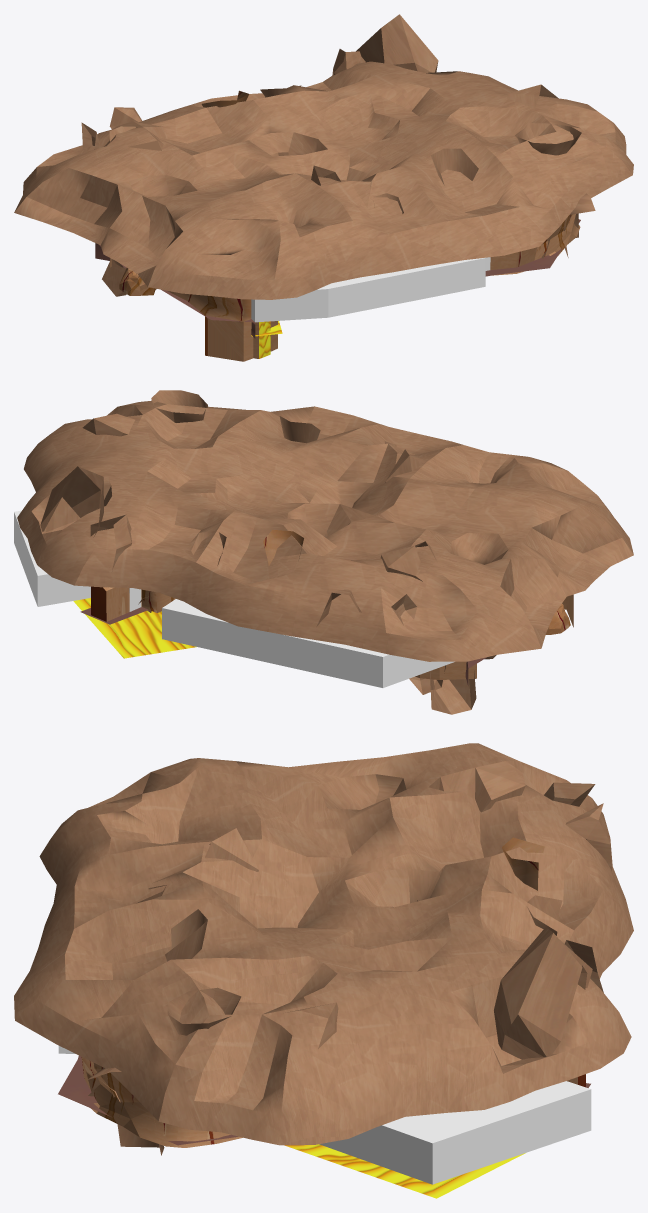
Rendered from lava.fbx.
3 views of the same model, one above another, from view 1: azimuth 30°, elevation 25°; view 2: azimuth 150°, elevation 25°; view 3: azimuth 270°, elevation 25° (orthographic). The views are drawn at different scales.
Parts seen in each view (by area): view 1: level3_ding, level3_bianyuan, pengzhuang_04, level_3_shitou23, level_3_shitou21, level_3_dimian, level_3_shitou11, level_3_shitou15; view 2: level3_ding, level3_bianyuan, pengzhuang_03, level_3_yanjiang05, pengzhuang_07, level_3_shitou11, level_3_shitou21, level_3_shitou15, level_3_shitou23; view 3: level3_ding, level3_bianyuan, pengzhuang_07, level_3_shitou21, level_3_yanjiang05, level_3_shitou11, level_3_shitou13, level_3_shitou15, level_3_dimian, level_3_shitou14.
Part boxes in pixels (bbox=[...]): level3_ding: bbox=[14, 61, 633, 299]; level3_bianyuan: bbox=[81, 14, 576, 351]; pengzhuang_04: bbox=[251, 257, 490, 322]; level_3_shitou23: bbox=[110, 258, 258, 361]; level_3_shitou21: bbox=[252, 132, 327, 156]; level_3_dimian: bbox=[95, 219, 580, 338]; level_3_shitou11: bbox=[129, 175, 197, 196]; level_3_shitou15: bbox=[517, 123, 581, 155]; level3_ding: bbox=[17, 400, 633, 661]; level3_bianyuan: bbox=[40, 413, 570, 714]; pengzhuang_03: bbox=[162, 599, 454, 687]; level_3_yanjiang05: bbox=[73, 598, 196, 658]; pengzhuang_07: bbox=[14, 510, 90, 606]; level_3_shitou11: bbox=[450, 533, 508, 564]; level_3_shitou21: bbox=[287, 503, 350, 537]; level_3_shitou15: bbox=[151, 390, 207, 422]; level_3_shitou23: bbox=[415, 594, 573, 679]; level3_ding: bbox=[14, 743, 633, 1145]; level3_bianyuan: bbox=[81, 761, 611, 1136]; pengzhuang_07: bbox=[319, 1081, 591, 1184]; level_3_shitou21: bbox=[345, 868, 439, 907]; level_3_yanjiang05: bbox=[284, 1144, 525, 1198]; level_3_shitou11: bbox=[318, 774, 406, 809]; level_3_shitou13: bbox=[131, 1111, 242, 1147]; level_3_shitou15: bbox=[167, 987, 241, 1035]; level_3_dimian: bbox=[58, 1055, 238, 1145]; level_3_shitou14: bbox=[87, 1067, 164, 1155].
Bounding box in the file's own units: 23470 × 7504 × 16303.
